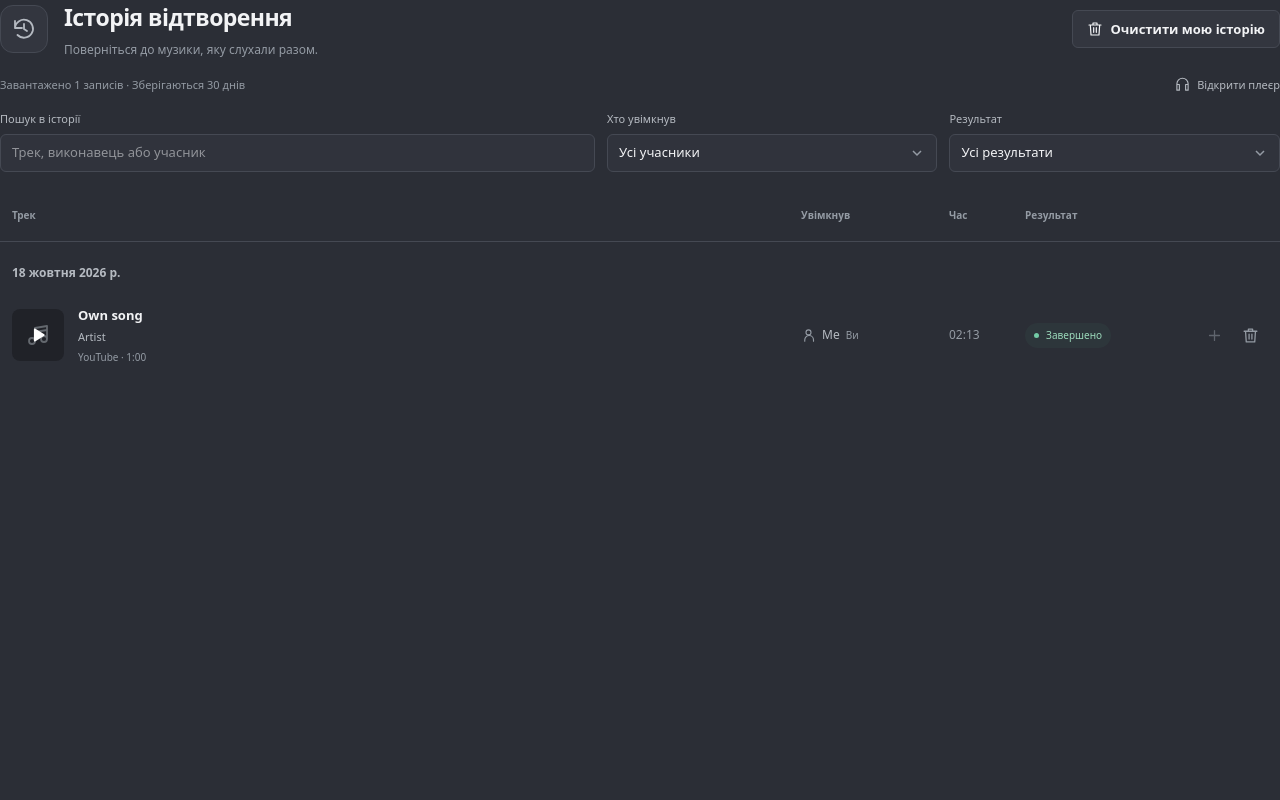
Test: Media history interactions › keeps denied entries visible and explains the failure inside the confirmation dialog
Click the button named "Видалити запис: Own song" at (1250, 335), box x1=1232 y1=317 x2=1268 y2=353
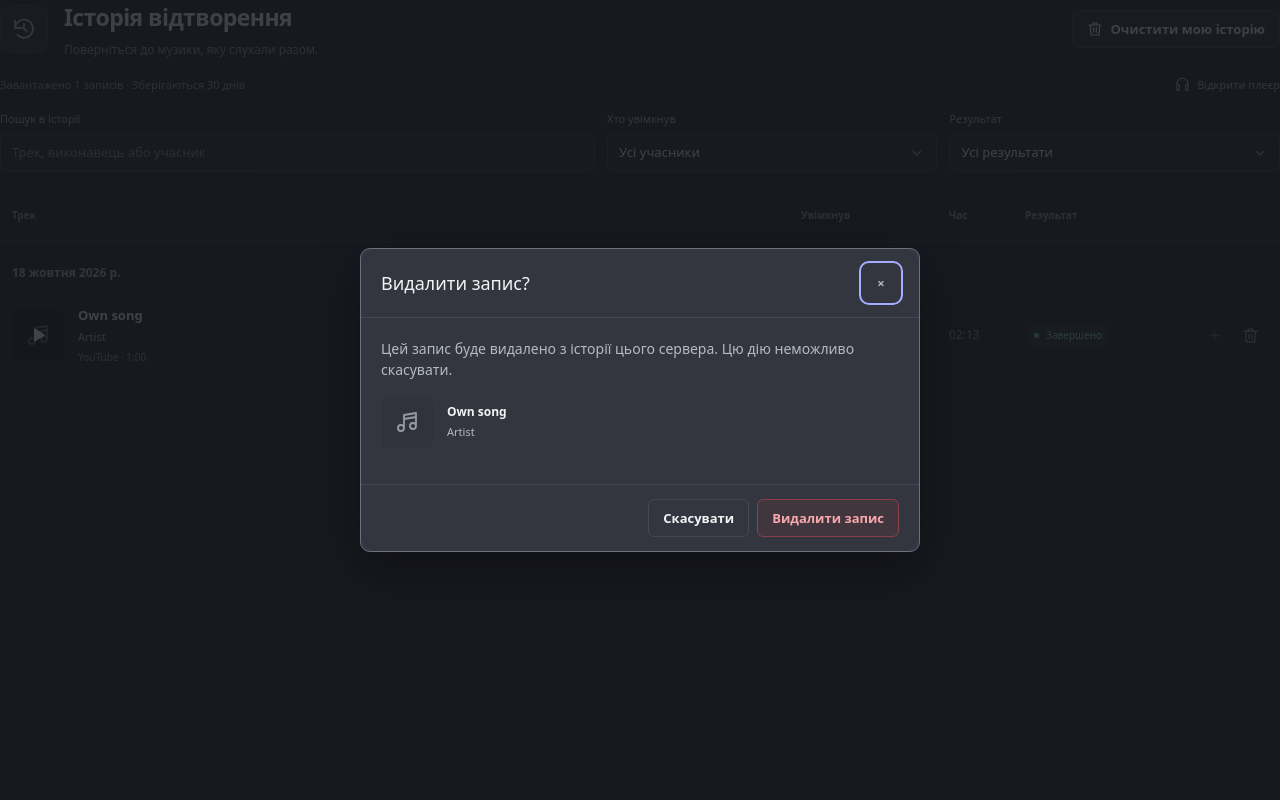
Click the button "Видалити запис" at (828, 518), box x1=757 y1=499 x2=899 y2=537
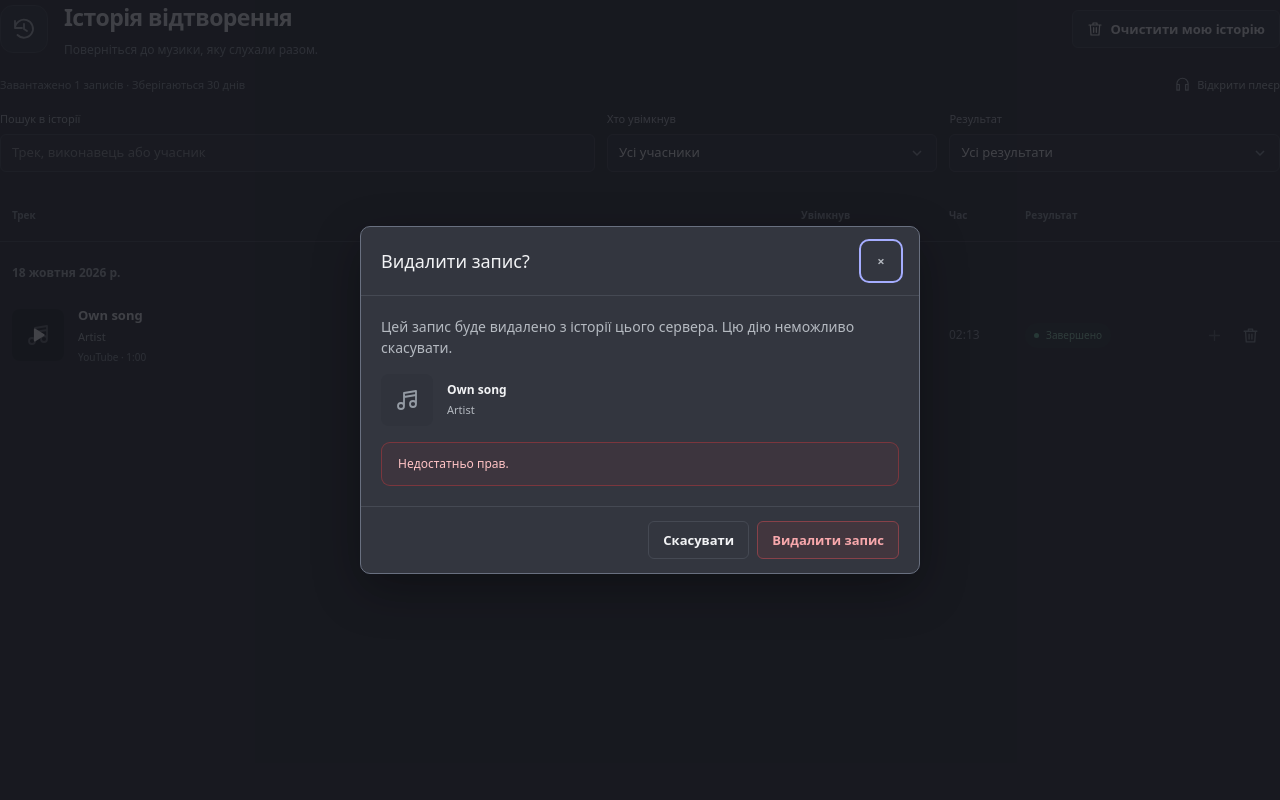
expect the text "Own song" is shown 2 times: met, box x1=78 y1=306 x2=143 y2=324; x1=447 y1=381 x2=507 y2=398
expect the message reads "Недостатньо прав.": met, box x1=398 y1=455 x2=509 y2=472
